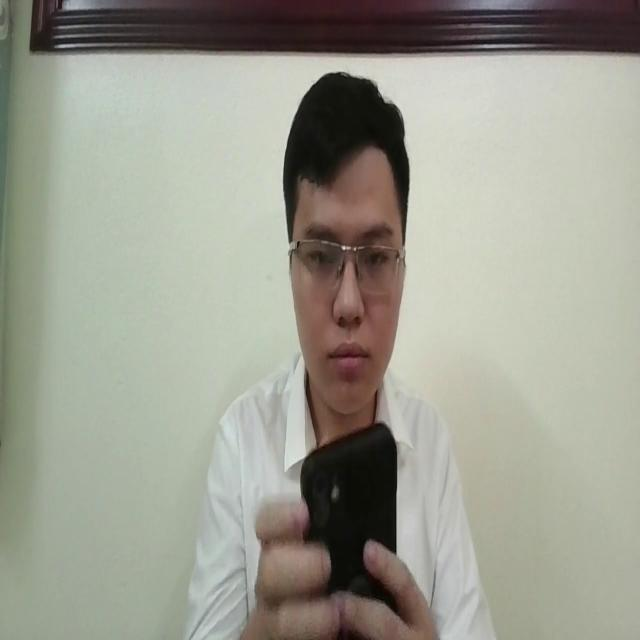phone: (299, 418, 402, 626)
student: (187, 73, 496, 640)
